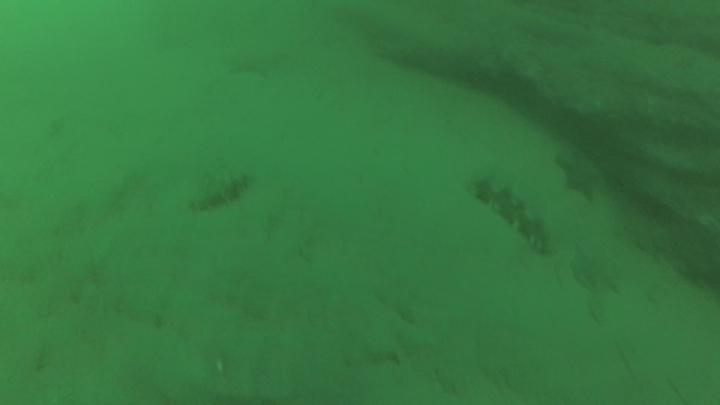holothurian: (473, 166, 558, 259), (187, 165, 257, 216)
starfish: (555, 148, 609, 200)
